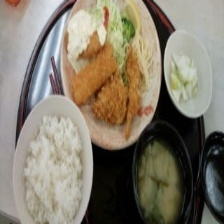rice: (22, 112, 85, 224)
